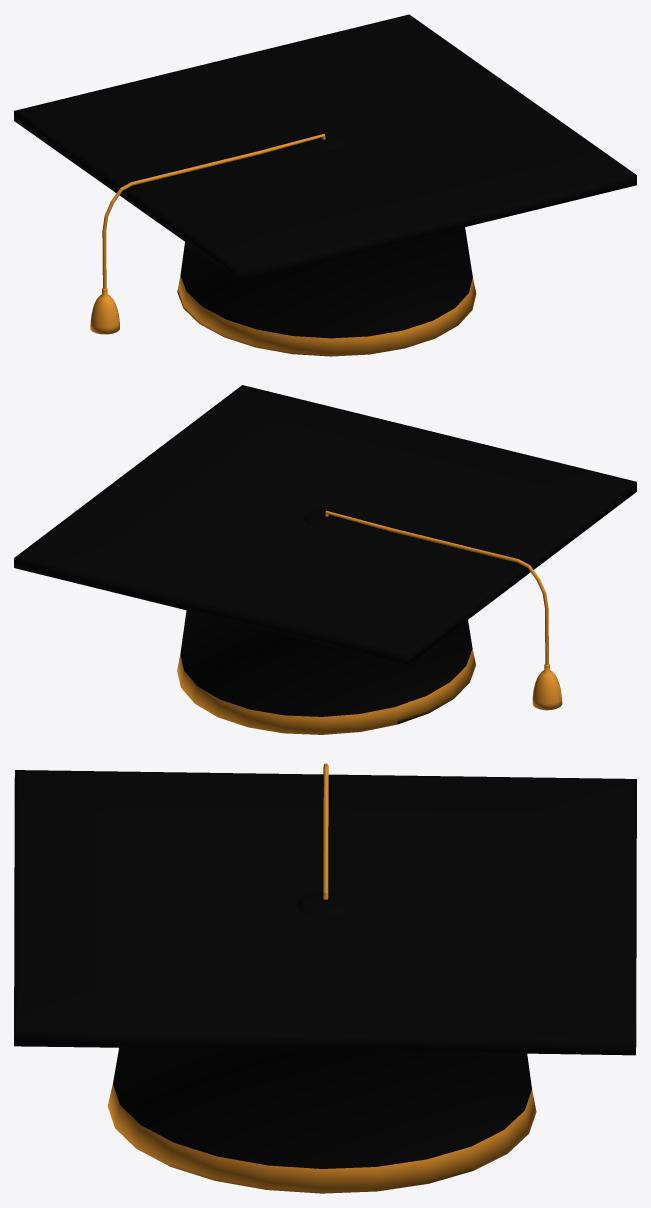
File: WorldItem_GraduationCap.fbx
The picture shows the model from 3 angles, top to bottom: view 1: azimuth 30°, elevation 25°; view 2: azimuth 150°, elevation 25°; view 3: azimuth 270°, elevation 25°; orthographic projection. The views are drawn at different scales.
Parts seen in each view (by area): view 1: GraduationCap; view 2: GraduationCap; view 3: GraduationCap.
Part boxes in pixels (left/top/right/bottom): GraduationCap: left=14, top=14, right=636, bottom=356; GraduationCap: left=14, top=385, right=636, bottom=734; GraduationCap: left=14, top=763, right=636, bottom=1193.
Bounding box in the file's own units: 0.2232 × 0.0791 × 0.2044.
